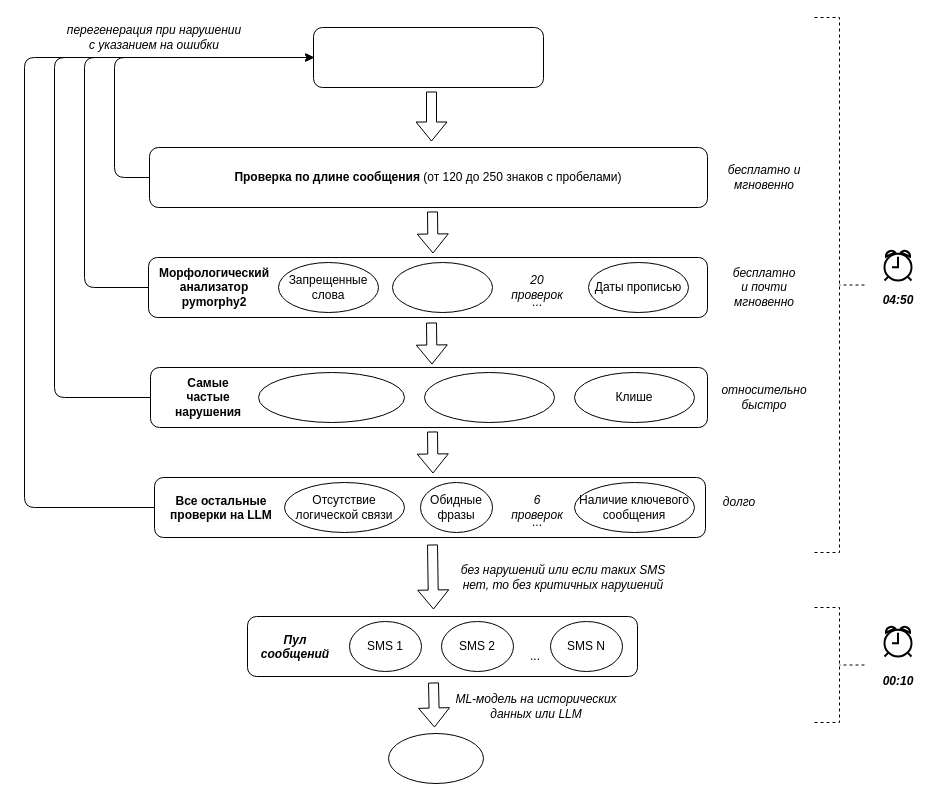
This 940x801 diagram has some shape labels left out. The shapes that lost their labels are listed below. From the top down, each one's centre as x and y in pixels, then its label:
point 428,57: Генерация неперс./перс. сообщения
point 442,287: Обращение к клиенту
point 331,397: Кликбейтные фразы
point 489,397: Абстрактные фразы
point 436,758: Финальная SMS
